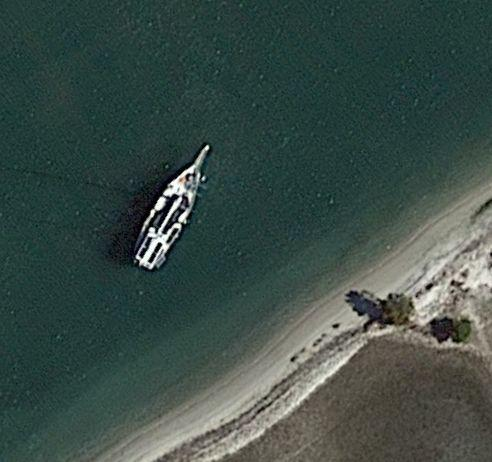Ships: (112, 129, 219, 280)
